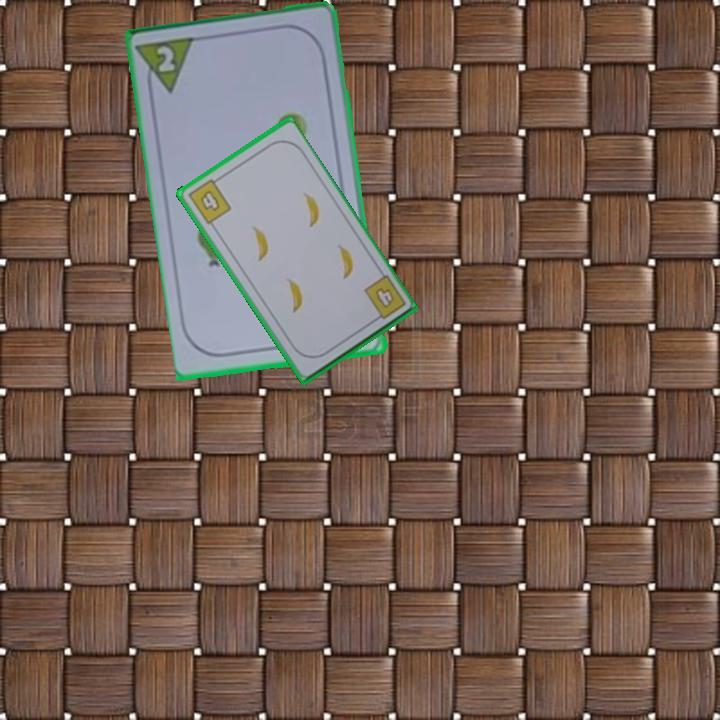2p: (135, 33, 200, 101)
4b: (184, 173, 234, 228), (360, 272, 409, 325)
